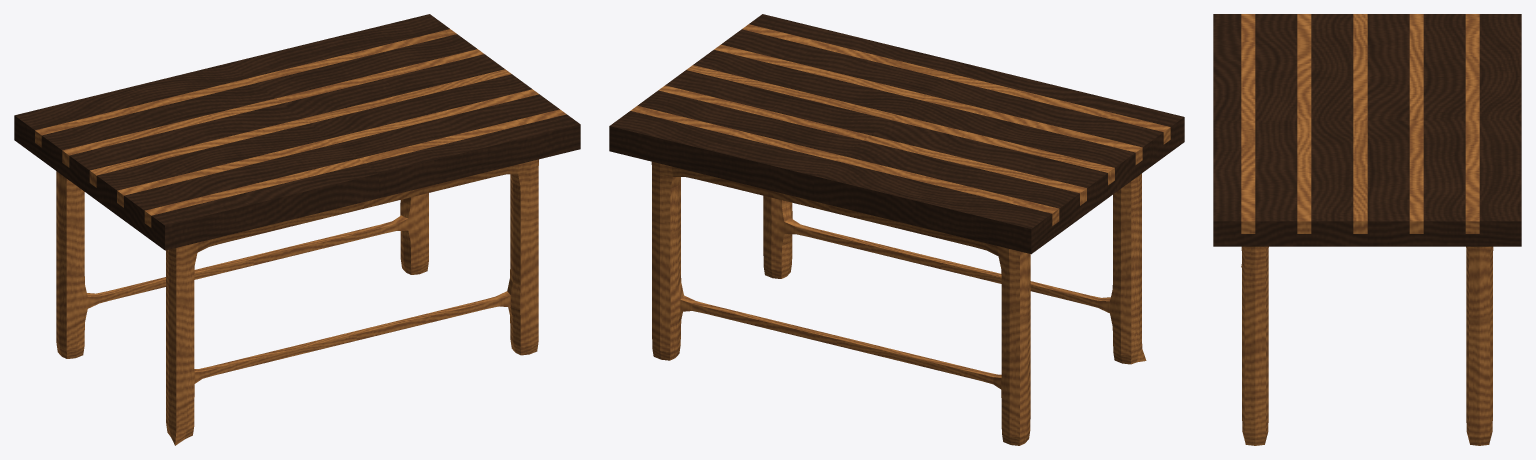
Rendered from furn_table.glb.
The picture shows the model from 3 angles, left to right: view 1: azimuth 30°, elevation 25°; view 2: azimuth 150°, elevation 25°; view 3: azimuth 270°, elevation 25°; orthographic projection. The views are drawn at different scales.
Parts seen in each view (by area): view 1: town_furn_table; view 2: town_furn_table; view 3: town_furn_table.
Part boxes in pixels (left/top/right/bottom): town_furn_table: left=14, top=14, right=580, bottom=445; town_furn_table: left=609, top=14, right=1184, bottom=445; town_furn_table: left=1213, top=14, right=1521, bottom=445.
Size of the model in its own units: 1.09 by 0.5938 by 0.6875.
Materials: 1 (1 with a texture image).
